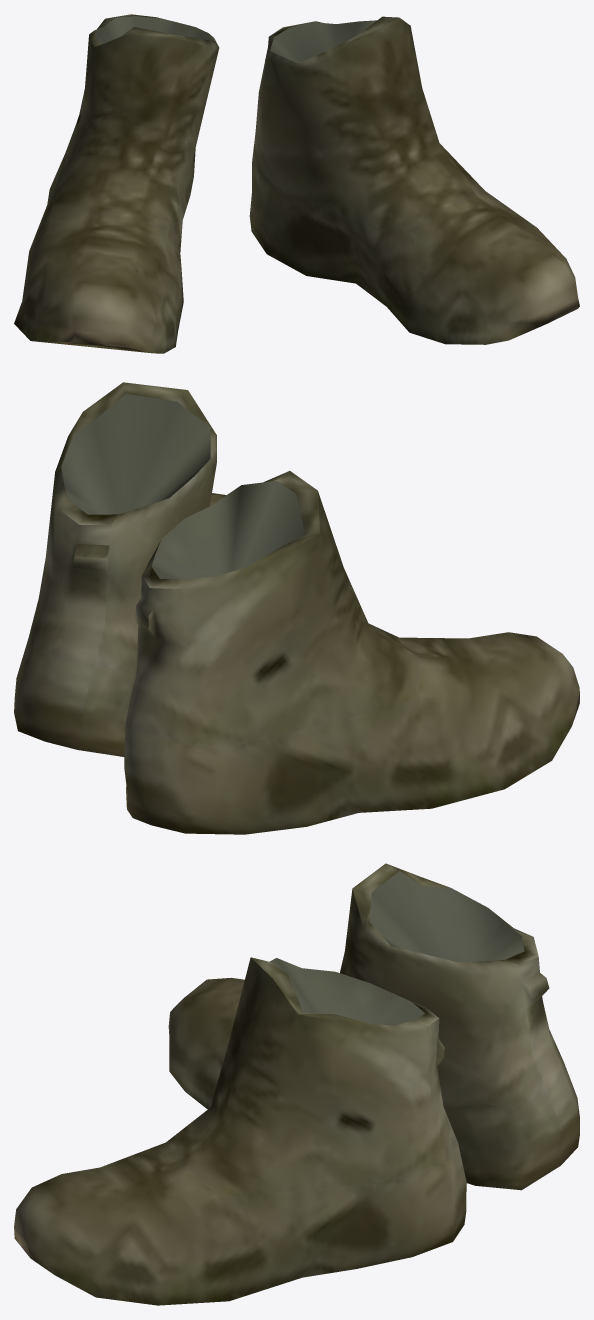
Rendered from combat_boots.67ba5fc632.glb.
3 renders of one model, top to bottom at view 1: azimuth 30°, elevation 25°; view 2: azimuth 150°, elevation 25°; view 3: azimuth 270°, elevation 25°, orthographic. The views are drawn at different scales.
Visible parts, largest first — view 1: combat_boots; view 2: combat_boots; view 3: combat_boots.
Boxes of the visible parts, x1,y1,x2,y2 form: combat_boots: [14, 14, 579, 353]; combat_boots: [14, 382, 579, 834]; combat_boots: [14, 863, 579, 1305].
Bounding box in the file's own units: 0.3 × 0.1617 × 0.2886.
Materials: 1 (1 with a texture image).
